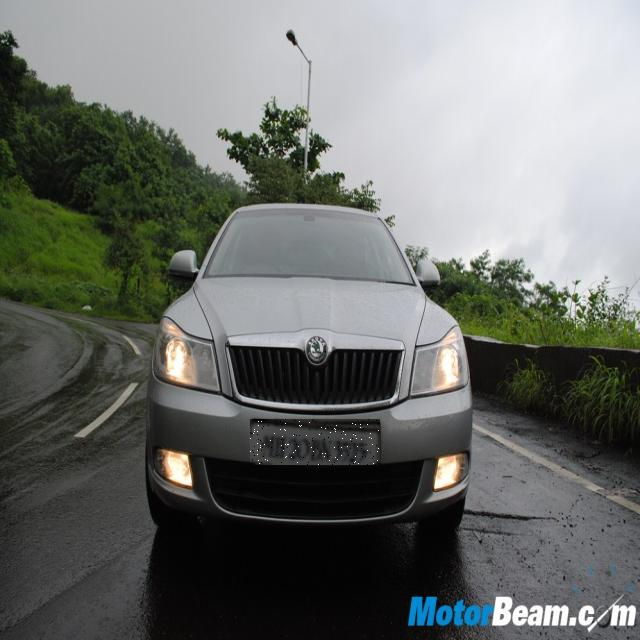Plate: (251, 420, 381, 466)
